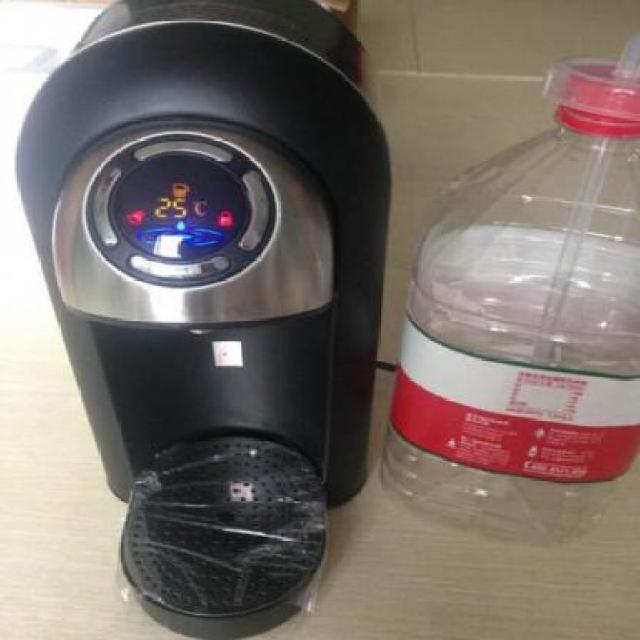cooler: (11, 0, 396, 640)
